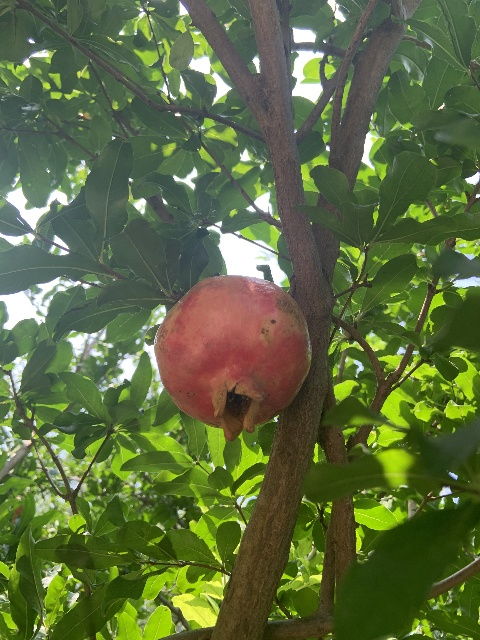ripe: (153, 275, 312, 441)
